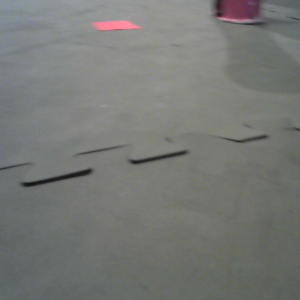right: (211, 1, 269, 25)
